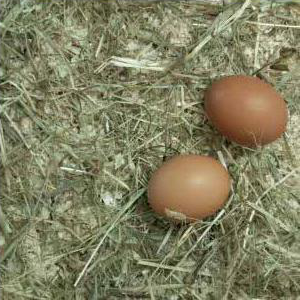egg: (146, 155, 231, 226), (204, 76, 289, 145)
